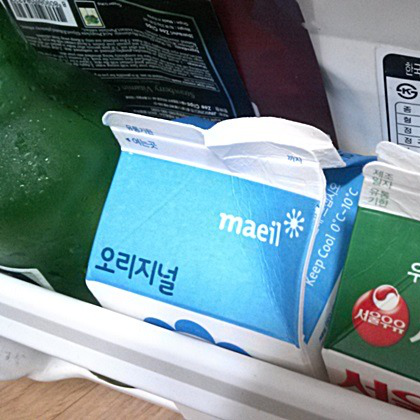milk: (83, 110, 420, 409)
